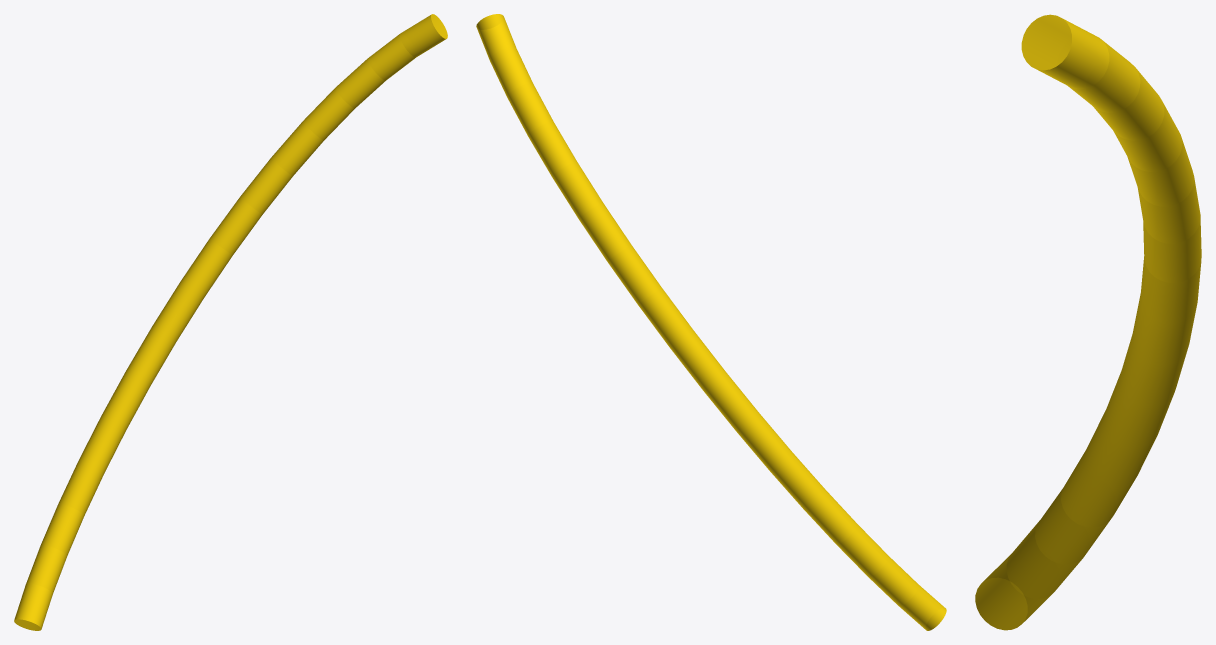
The model's file is Event_420094457_track_63.fbx.
3 renders of one model, left to right at view 1: azimuth 30°, elevation 25°; view 2: azimuth 150°, elevation 25°; view 3: azimuth 270°, elevation 25°, orthographic. The views are drawn at different scales.
Visible parts, largest first — view 1: Model; view 2: Model; view 3: Model.
Part boxes in pixels (left/top/right/bottom): Model: left=14, top=14, right=447, bottom=630; Model: left=476, top=14, right=946, bottom=630; Model: left=975, top=14, right=1201, bottom=630.
Bounding box in the file's own units: 0.7094 × 0.7766 × 0.1571.
